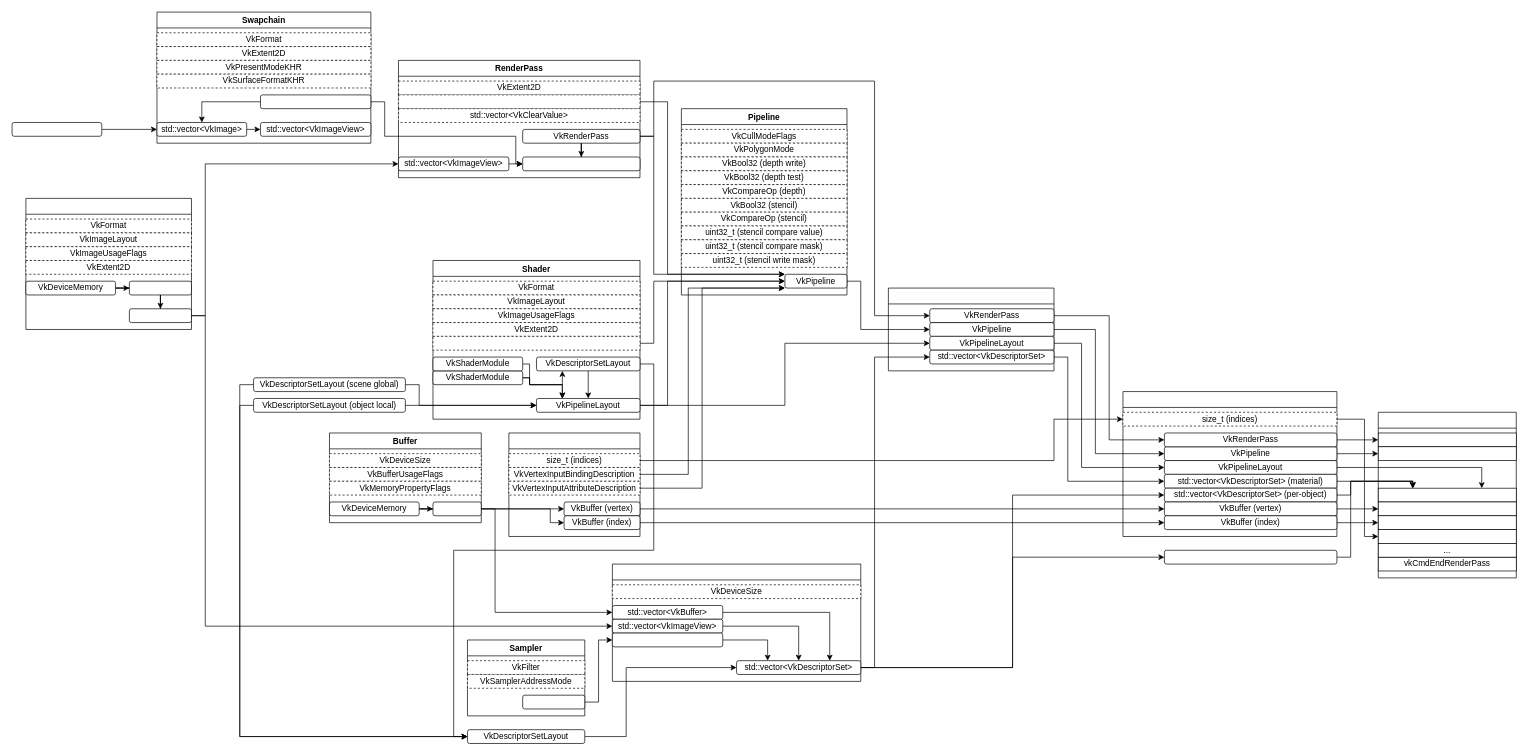
Some shapes in this 1528 by 756 pixel diagram are drawn without their labels. Each missing label, with the box of its shape:
DRAW FRAME: (1378, 412, 1516, 578)
Material: (888, 287, 1054, 371)
Mesh: (508, 432, 640, 536)
StaticMesh (Object): (1122, 391, 1337, 536)
std::vector<VkAttachmentDescription>: (398, 94, 640, 109)
std::vector<VkDescriptorSet> (scene globals): (1164, 550, 1337, 564)
std::vector<VkFramebuffer>: (522, 156, 640, 171)
std::vector<VkSampler>: (612, 632, 723, 647)
Texture: (25, 198, 191, 329)
UniformBlock: (612, 563, 861, 681)
VkBuffer: (432, 501, 481, 516)
vkCmdBeginRenderPass: (1378, 432, 1516, 447)
vkCmdBindDescriptorSets: (1378, 487, 1516, 502)
vkCmdBindIndexBuffers: (1378, 515, 1516, 530)
vkCmdBindPipeline: (1378, 446, 1516, 461)
vkCmdBindVertexBuffers: (1378, 501, 1516, 516)
vkCmdDrawIndexed: (1378, 529, 1516, 543)
VkImage: (129, 280, 191, 295)
VkImageView: (129, 308, 191, 323)
VkPipelineShaderStageCreateInfo: (432, 336, 640, 350)
VkSampler: (522, 694, 585, 709)
VkSurfaceKHR: (11, 122, 102, 136)
VkSwapchainKHR: (260, 94, 371, 109)
